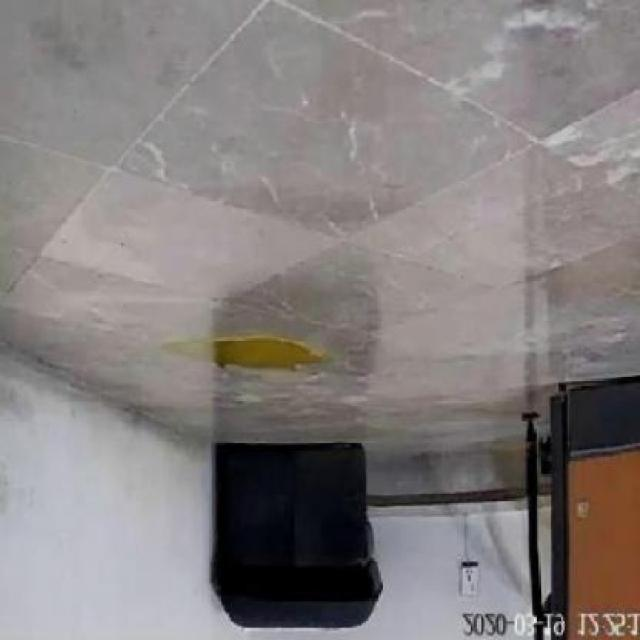spillage: (162, 333, 324, 369)
